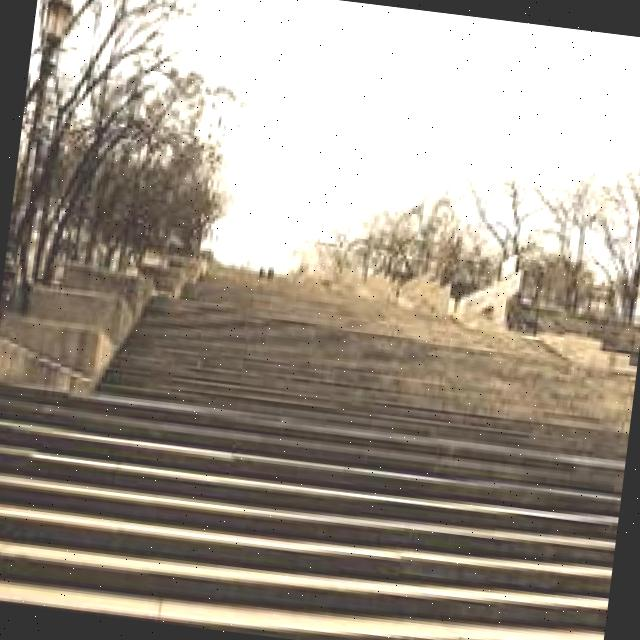stairs: (0, 254, 638, 640)
